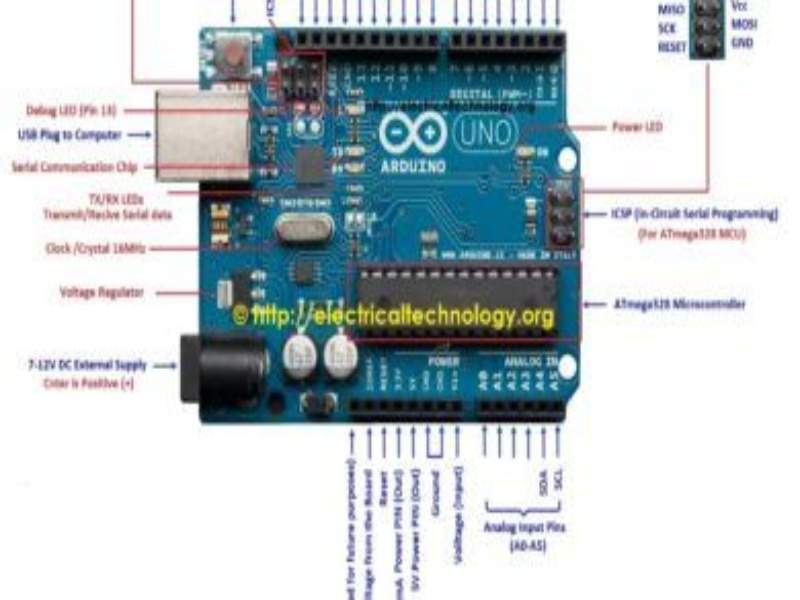uno: (164, 17, 593, 426)
